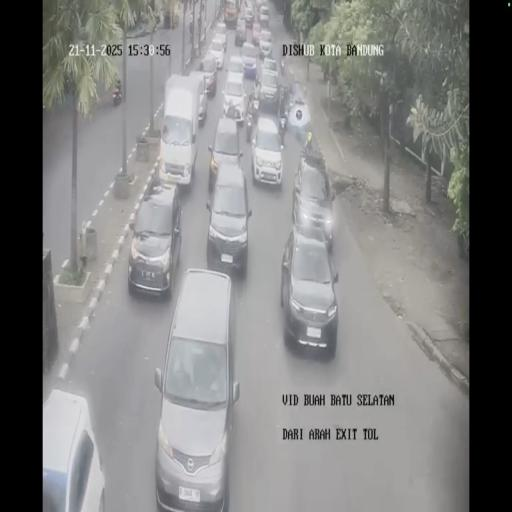car: (128, 175, 183, 298), (206, 114, 244, 194), (250, 114, 284, 188), (221, 67, 248, 122), (188, 70, 210, 128), (258, 59, 280, 107), (241, 40, 259, 77), (207, 38, 226, 72), (258, 28, 272, 57), (235, 18, 247, 45), (244, 4, 255, 25), (259, 3, 269, 25)
truck: (223, 0, 238, 28)
